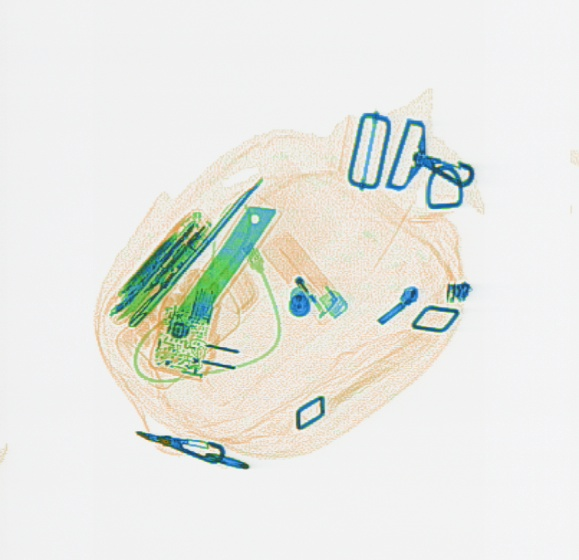knife: (103, 205, 212, 328), (176, 205, 276, 327)
lighter: (261, 230, 347, 324)
